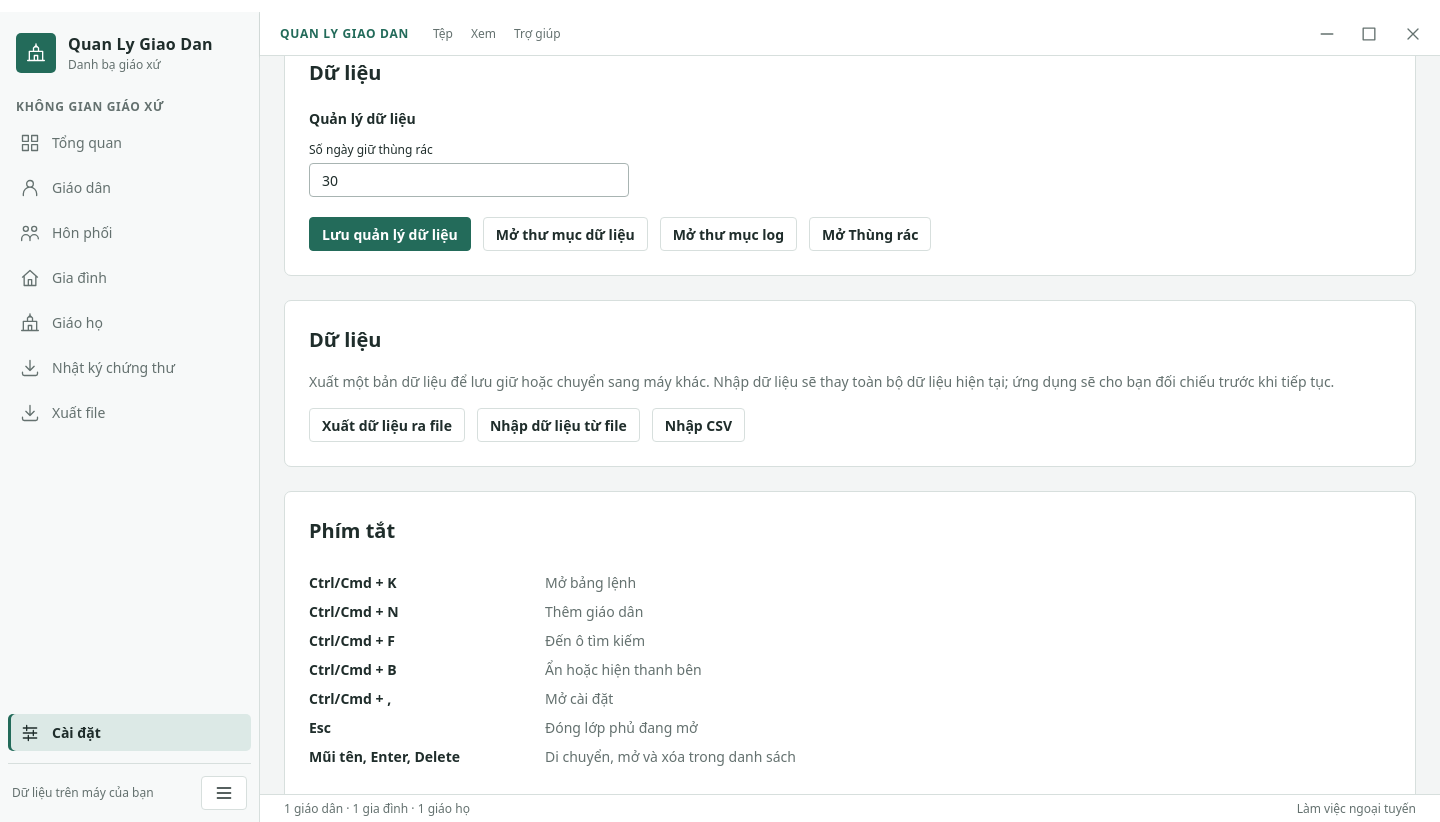
Test: Khung ứng dụng qua API preload › báo lỗi khi CSV không thể preview sau khi người dùng đã xoá dữ liệu
(page scrolled)
Click the button "Nhập CSV".
click(698, 425)  # box x1=652 y1=408 x2=745 y2=442
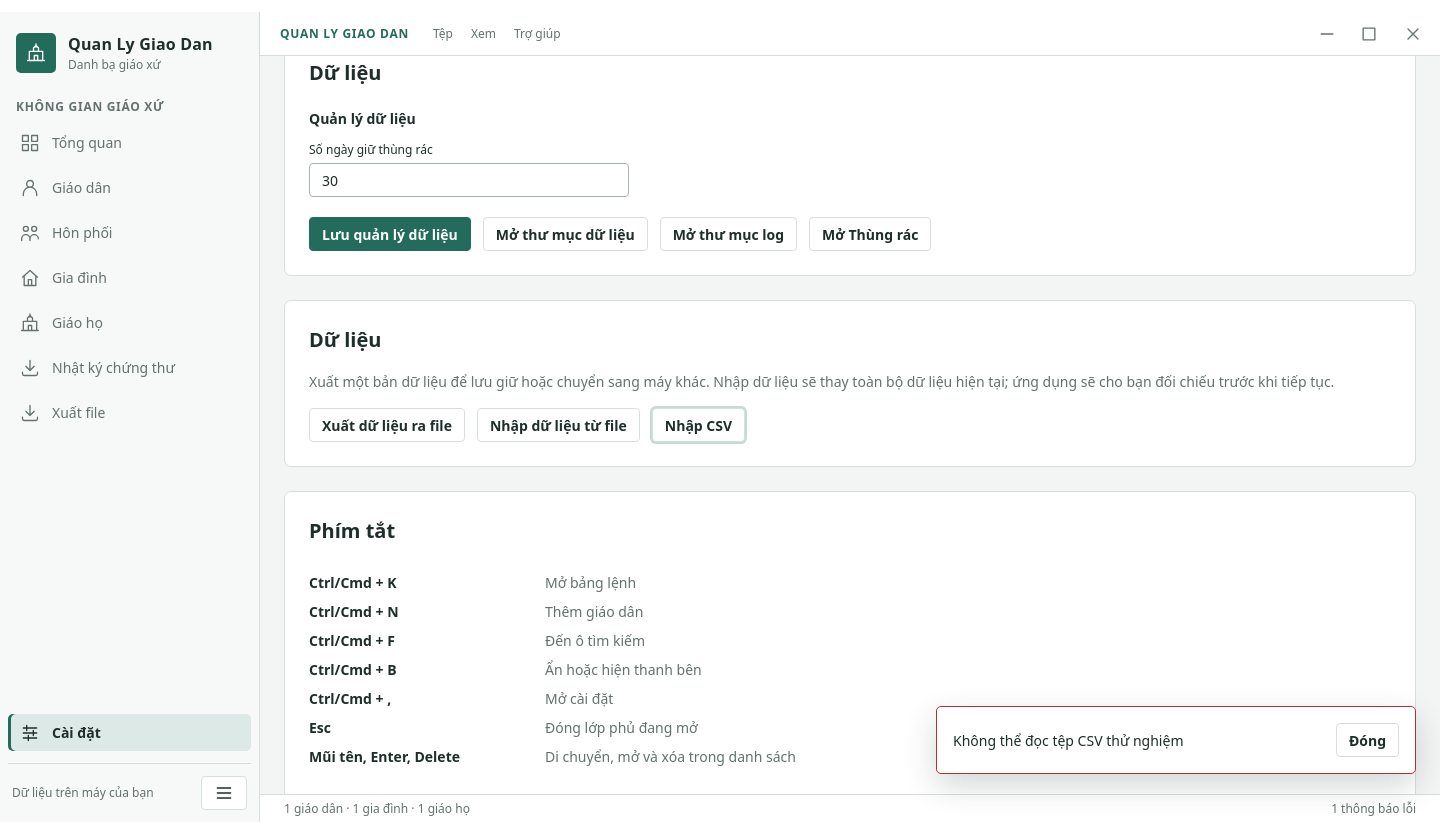
Expected: the message "Không thể đọc tệp CSV thử nghiệm Đóng" is shown, x1=936 y1=706 x2=1416 y2=774
